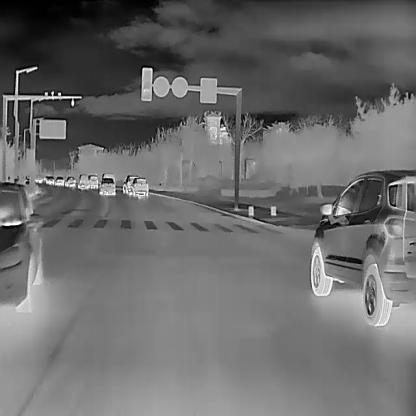car: (310, 169, 416, 327), (0, 180, 44, 312), (131, 177, 148, 196), (99, 176, 114, 195), (122, 174, 137, 192), (77, 172, 88, 188), (87, 174, 98, 187), (65, 176, 75, 186), (54, 175, 63, 185), (45, 174, 54, 184)
